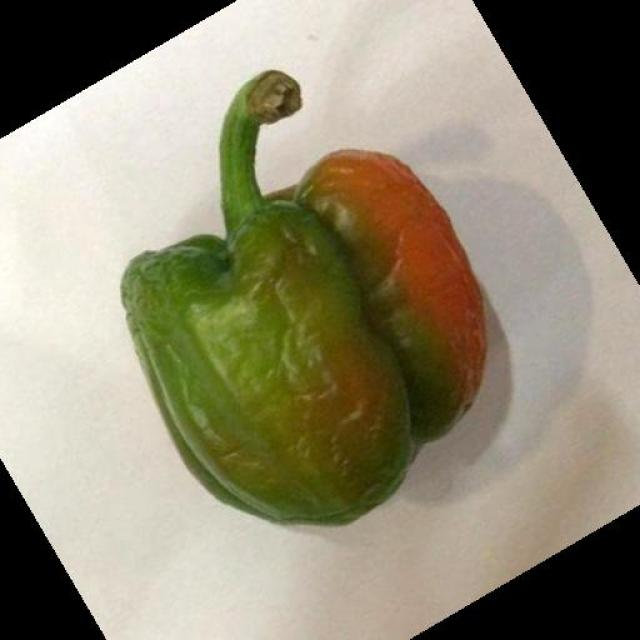Stale_Capsicum: (86, 116, 532, 486)
